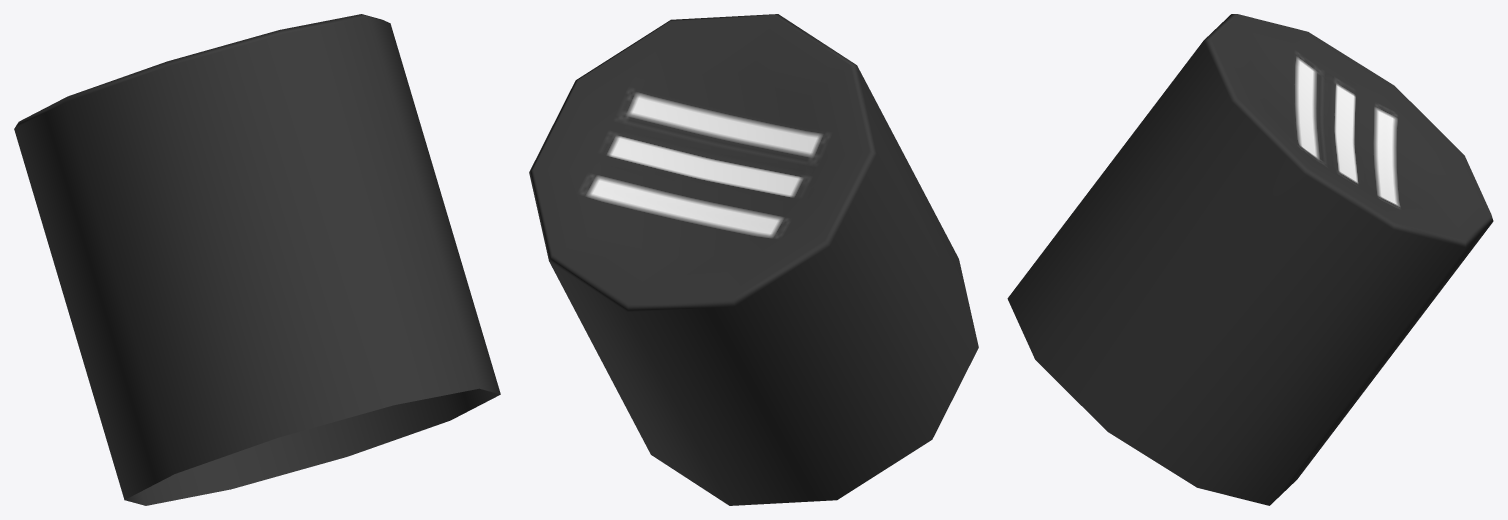
Rendered from crystal_controller_left_button4.obj.
The picture shows the model from 3 angles, left to right: view 1: azimuth 30°, elevation 25°; view 2: azimuth 150°, elevation 25°; view 3: azimuth 270°, elevation 25°; orthographic projection. The views are drawn at different scales.
Visible parts, largest first — view 1: crystal_controller_left_button4; view 2: crystal_controller_left_button4; view 3: crystal_controller_left_button4.
Part boxes in pixels (x1,y1,x2,y2): crystal_controller_left_button4: (14, 14, 500, 505); crystal_controller_left_button4: (529, 14, 978, 505); crystal_controller_left_button4: (1007, 14, 1493, 505).
Bounding box in the file's own units: 0.00935 × 0.0136 × 0.0136.
1 material, 1 textured.
